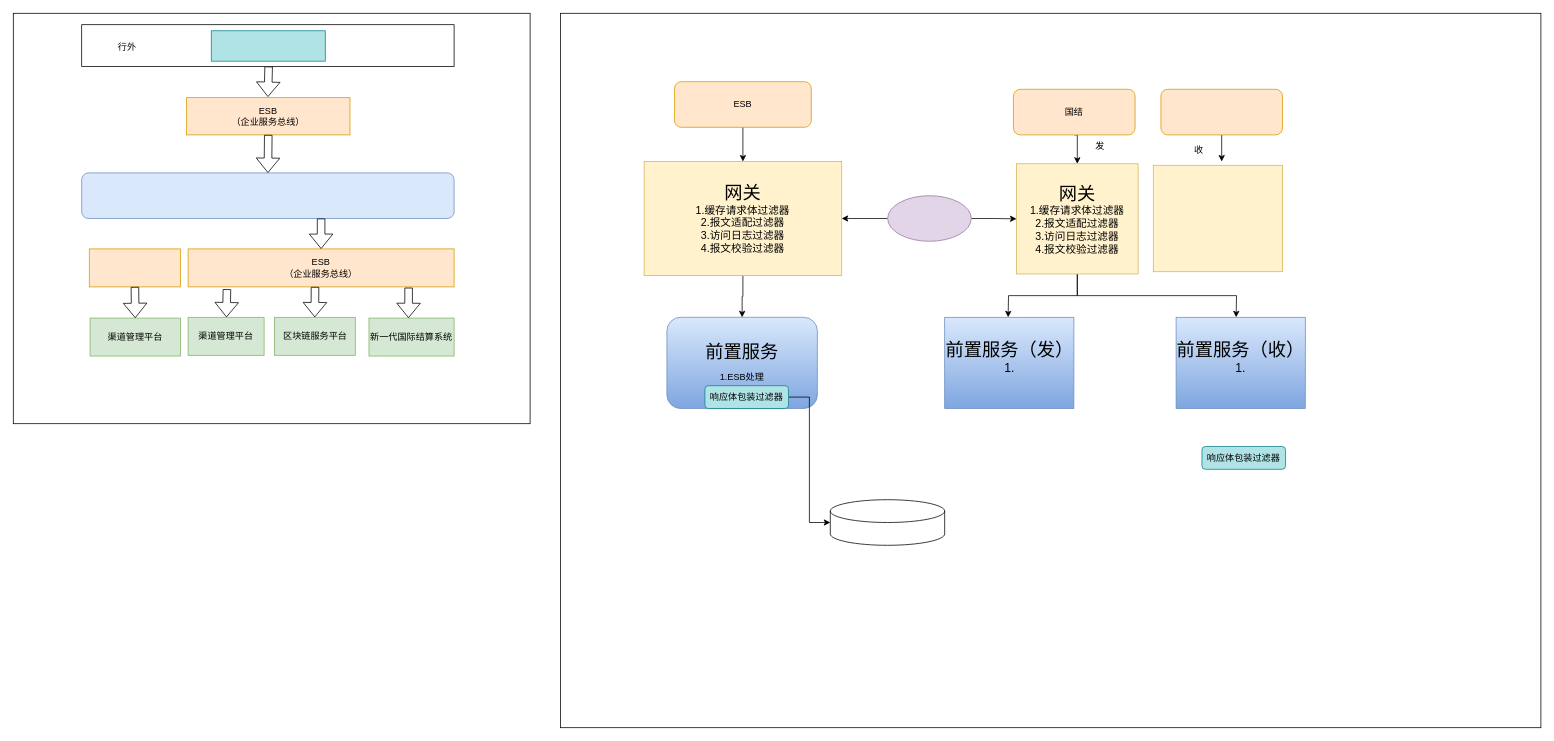
This 1554x741 diagram has some shape labels left out. The centre of each missing label's shape, as x and y in pixels:
"EDB （企业数据总线）" goes at point (134, 267).
"人行" goes at point (1221, 112).
"元数据" goes at point (887, 522).
"支付系统开放 接入 服务" goes at point (268, 45).
"校验 文件" goes at point (929, 218).
"福费廷前置系统" goes at point (267, 195).
"网关 1.缓存请求体过滤器 2.报文适配过滤器 3.访问日志过滤器" goes at point (1217, 218).
